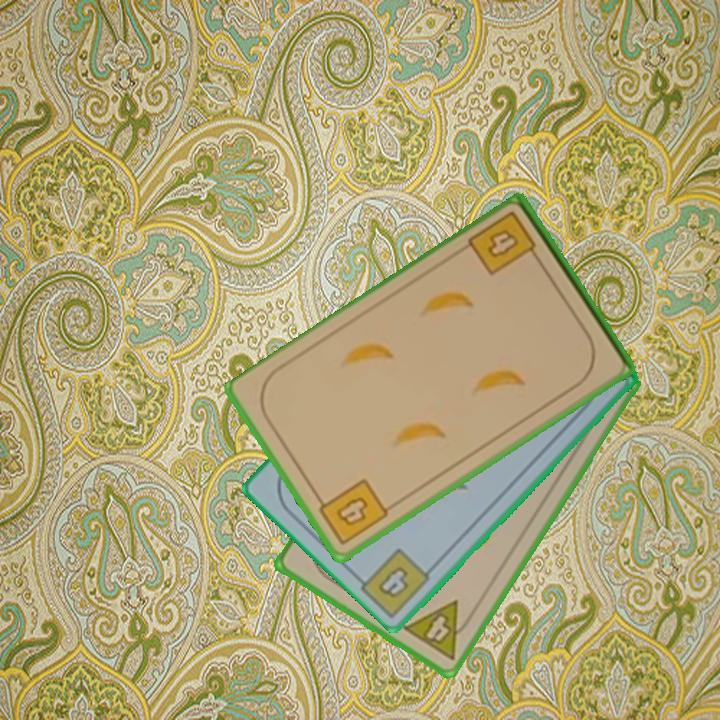4b: (312, 475, 392, 549), (465, 207, 544, 279), (374, 563, 412, 602)
4p: (399, 597, 478, 663)
